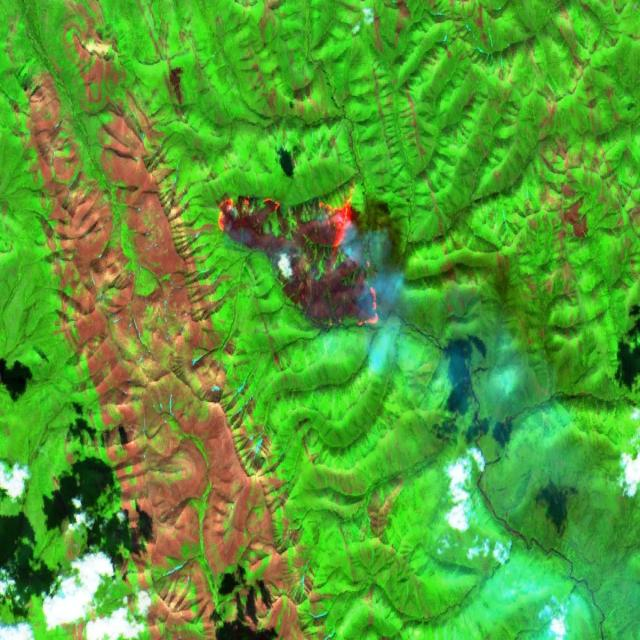fire: (218, 178, 366, 260), (354, 255, 394, 345)
